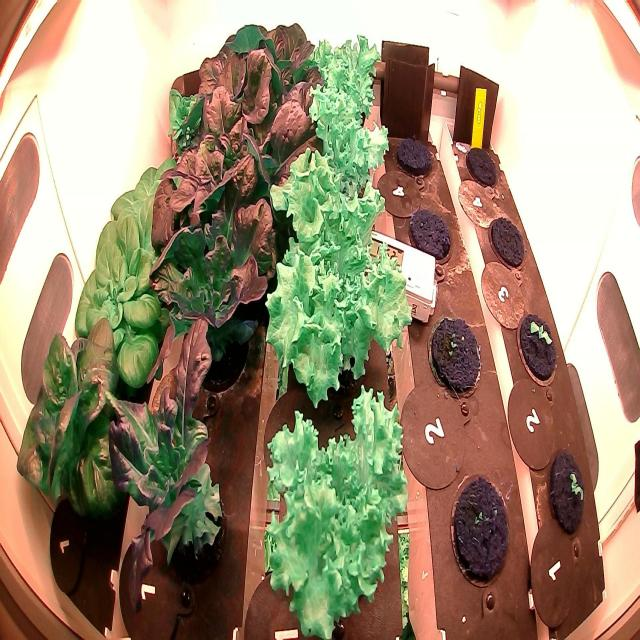Ready: (143, 146, 292, 400), (175, 48, 321, 220), (208, 7, 322, 134)
germination: (444, 464, 518, 594), (423, 300, 488, 410), (537, 440, 598, 543), (508, 304, 568, 399)
pod: (406, 203, 454, 266), (487, 209, 530, 276), (392, 125, 440, 184), (463, 142, 504, 194)
young: (102, 307, 231, 591), (9, 306, 152, 524), (69, 215, 171, 392), (108, 150, 184, 264), (155, 77, 207, 149)
